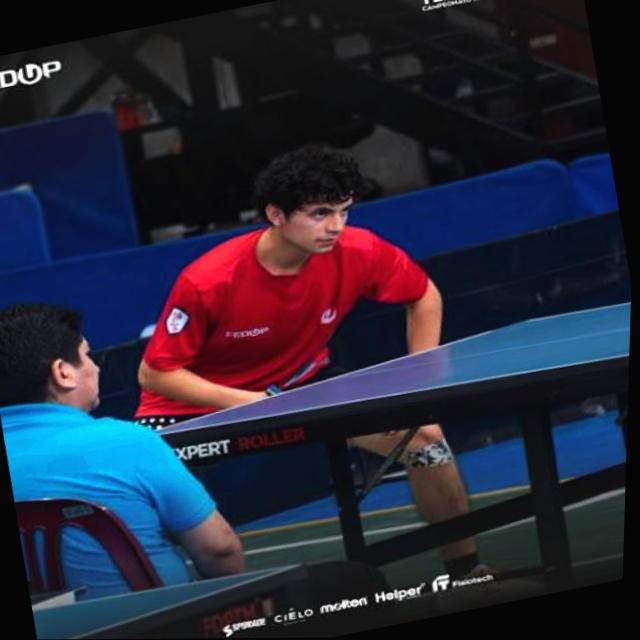TT Table: (149, 302, 631, 434), (36, 565, 302, 640)
